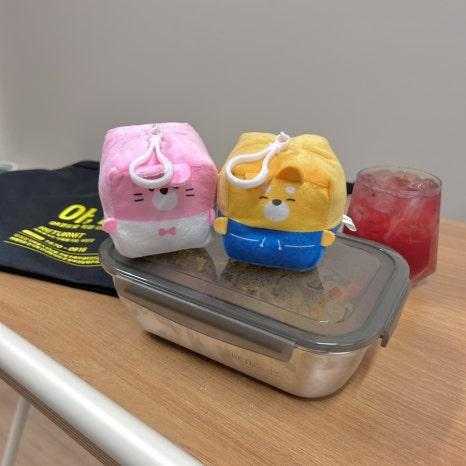cup: (344, 166, 441, 283)
